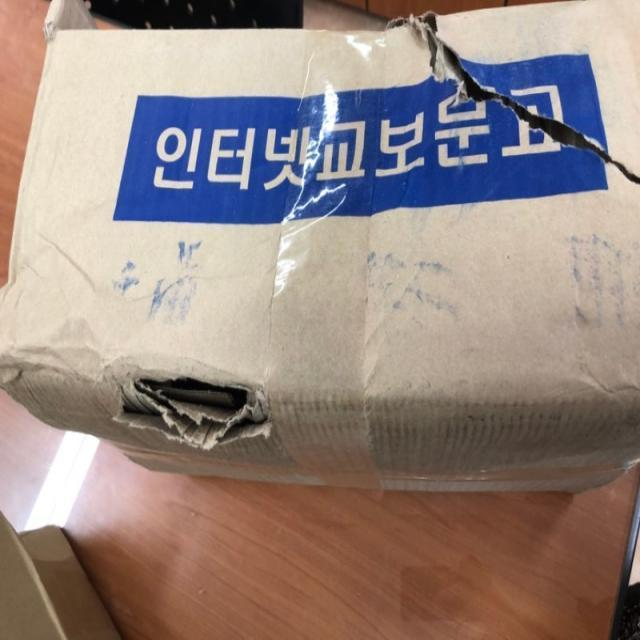hole: (118, 362, 276, 467)
